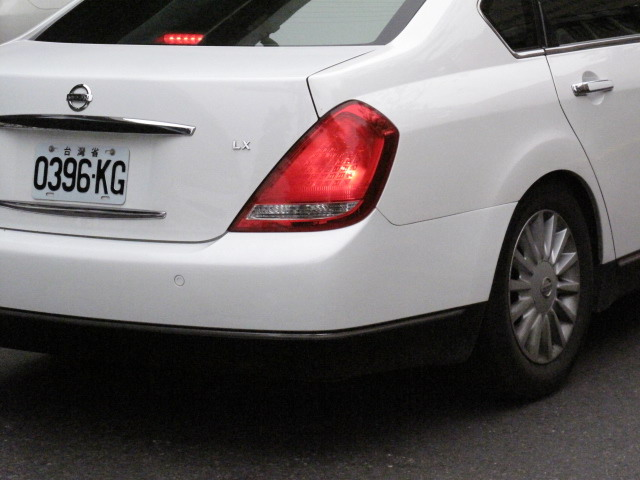plate: (30, 140, 131, 206)
